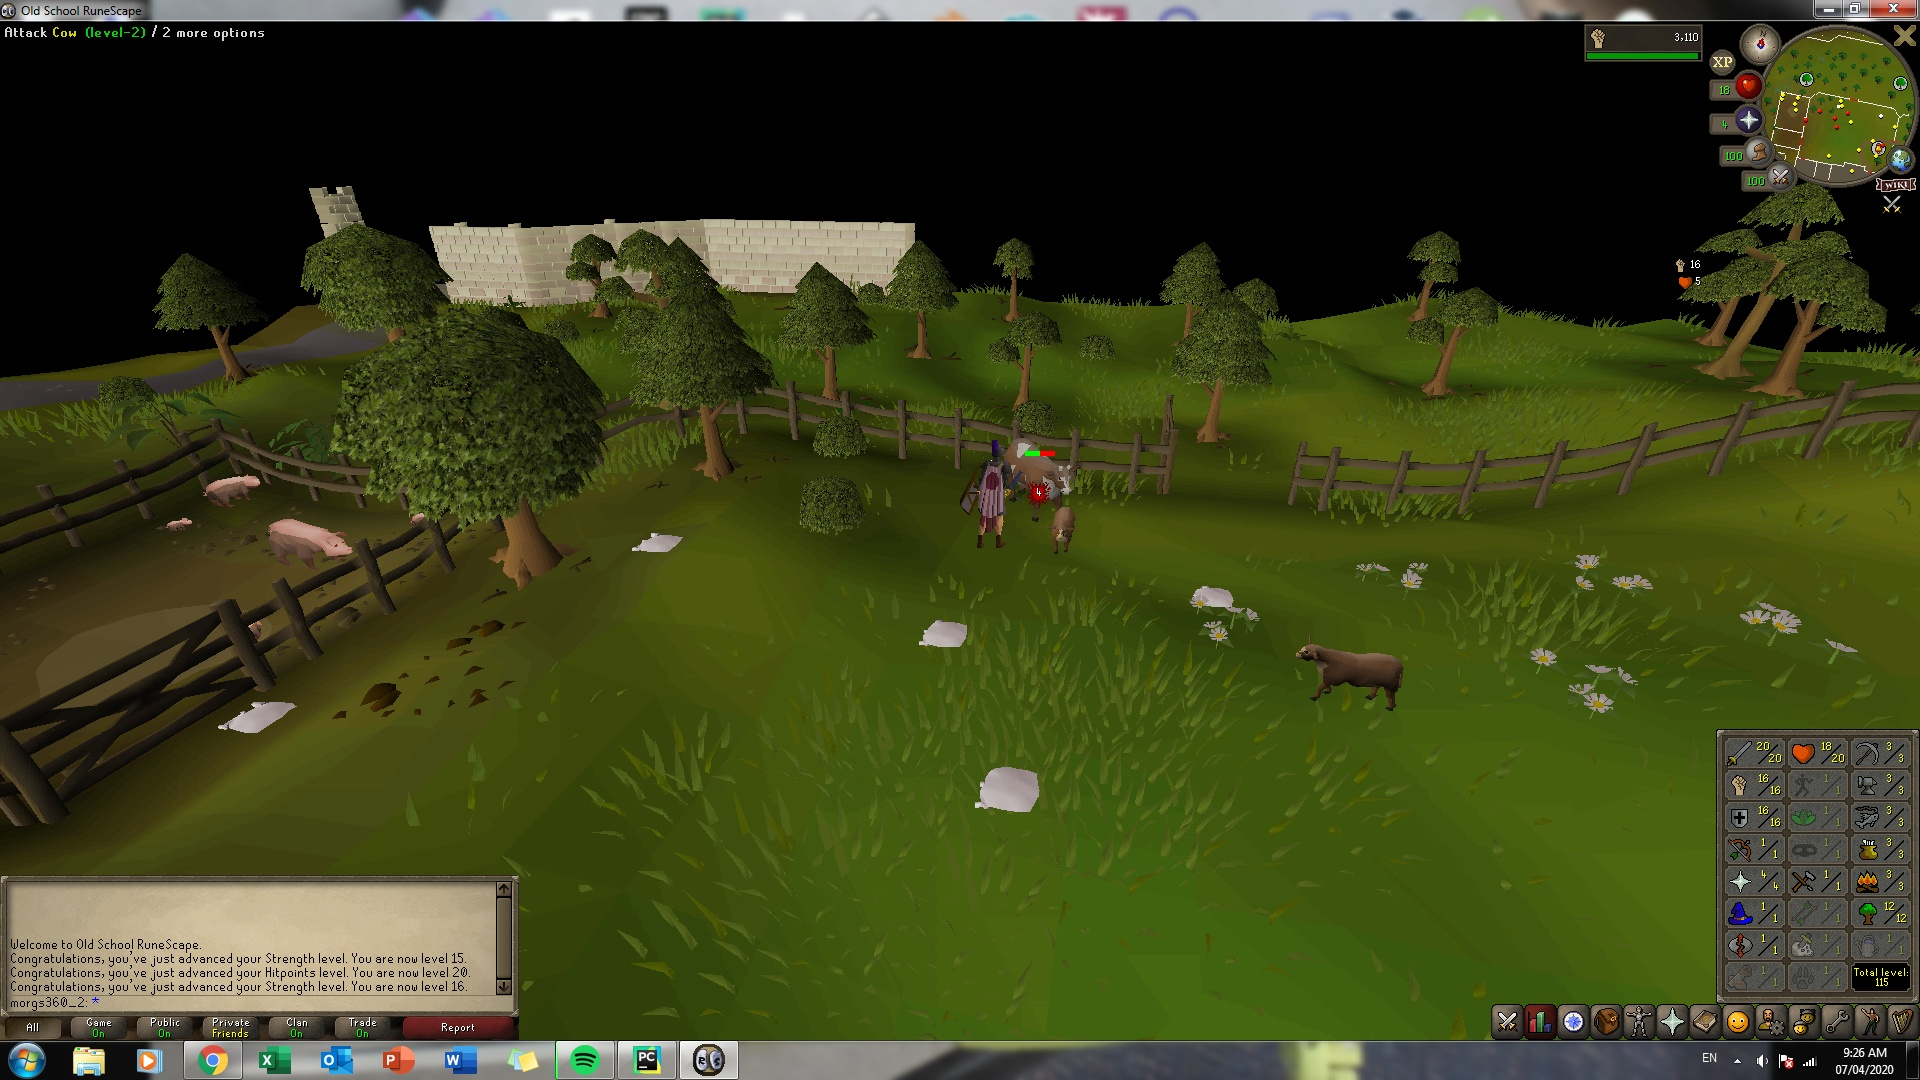cow: (1295, 639, 1403, 713), (1000, 433, 1074, 523), (1050, 498, 1076, 557)
player: (974, 447, 1012, 553)
